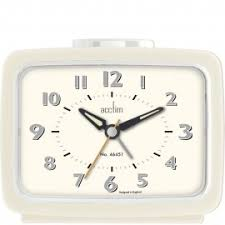alarm_clock: (4, 37, 222, 222)
